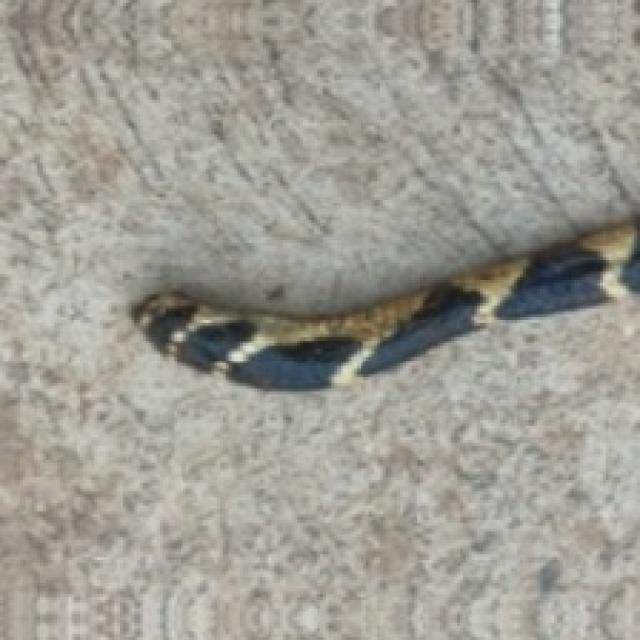king cobra: (0, 0, 637, 311), (97, 0, 637, 311), (131, 220, 637, 386)
